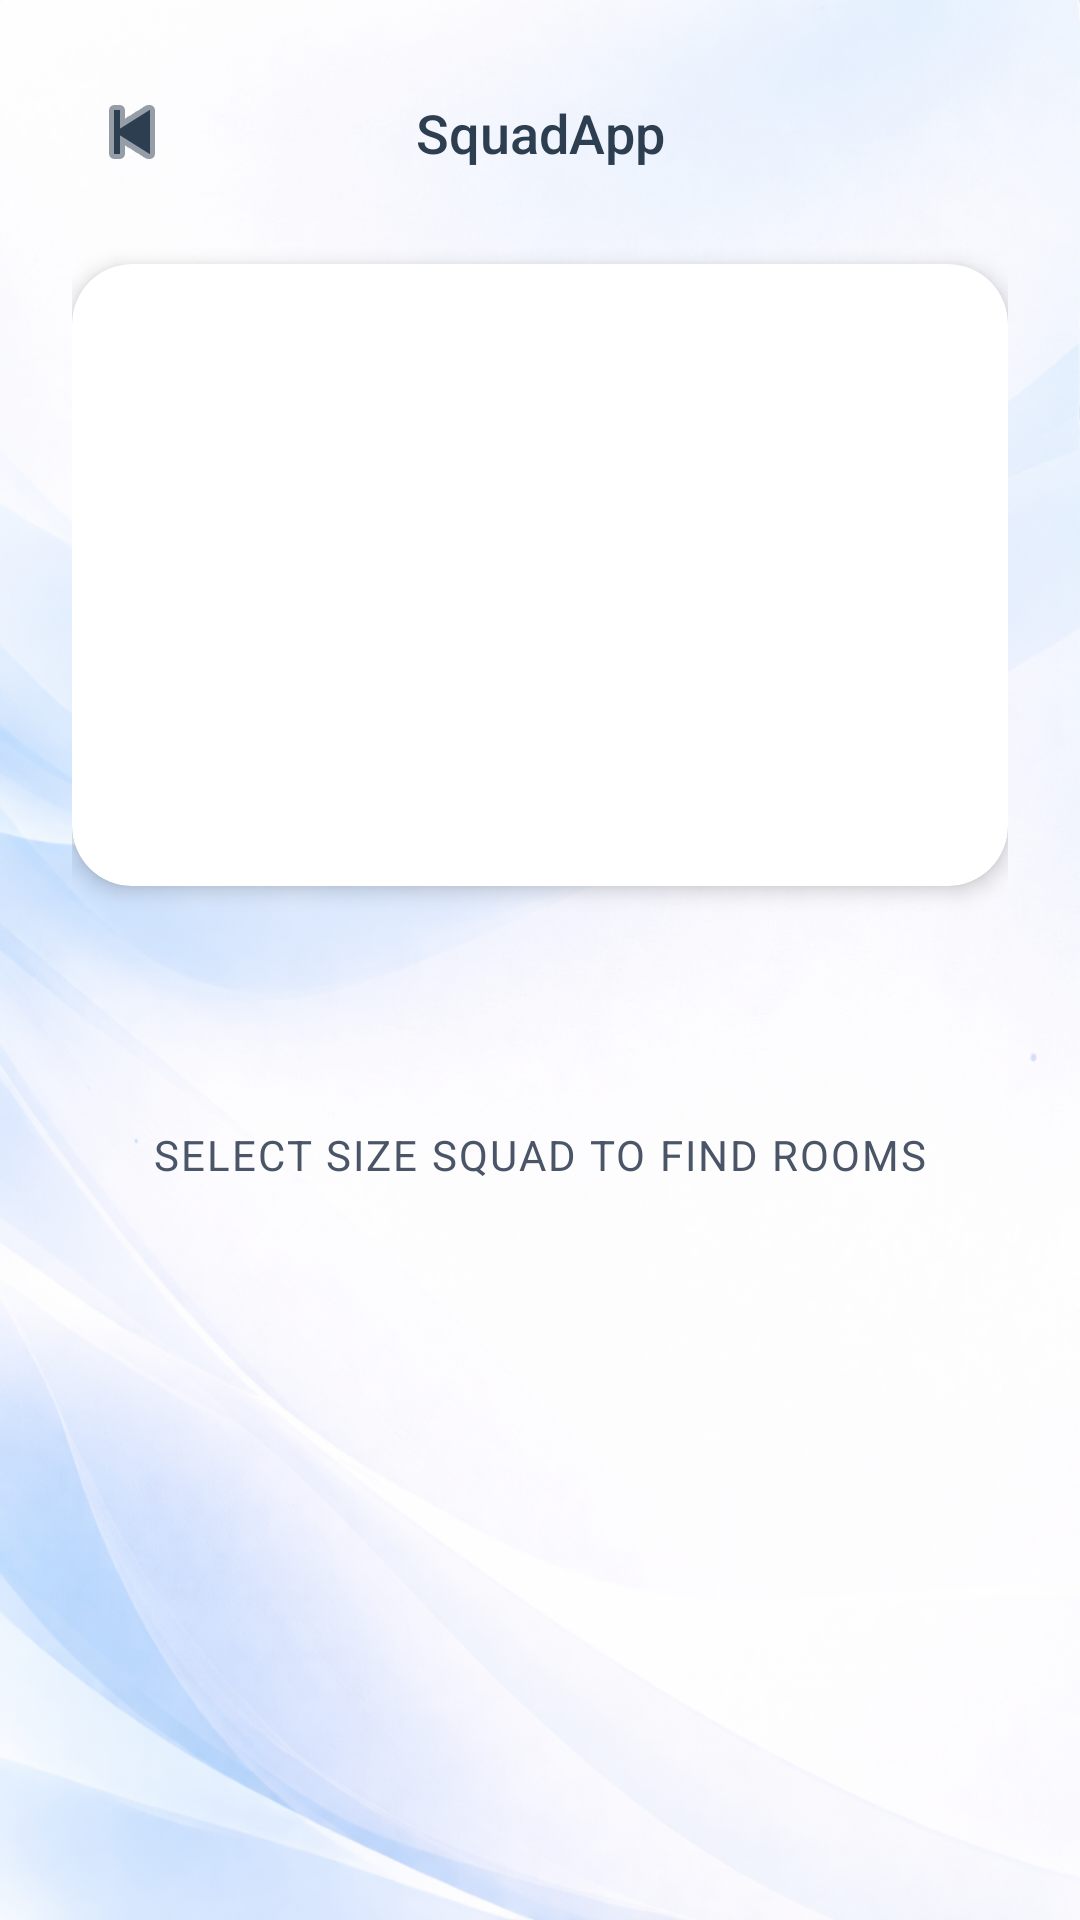

Screen size 1080px×1920px. Icon name, then its center in pixels as [x,y]:
Back: [132,132]
